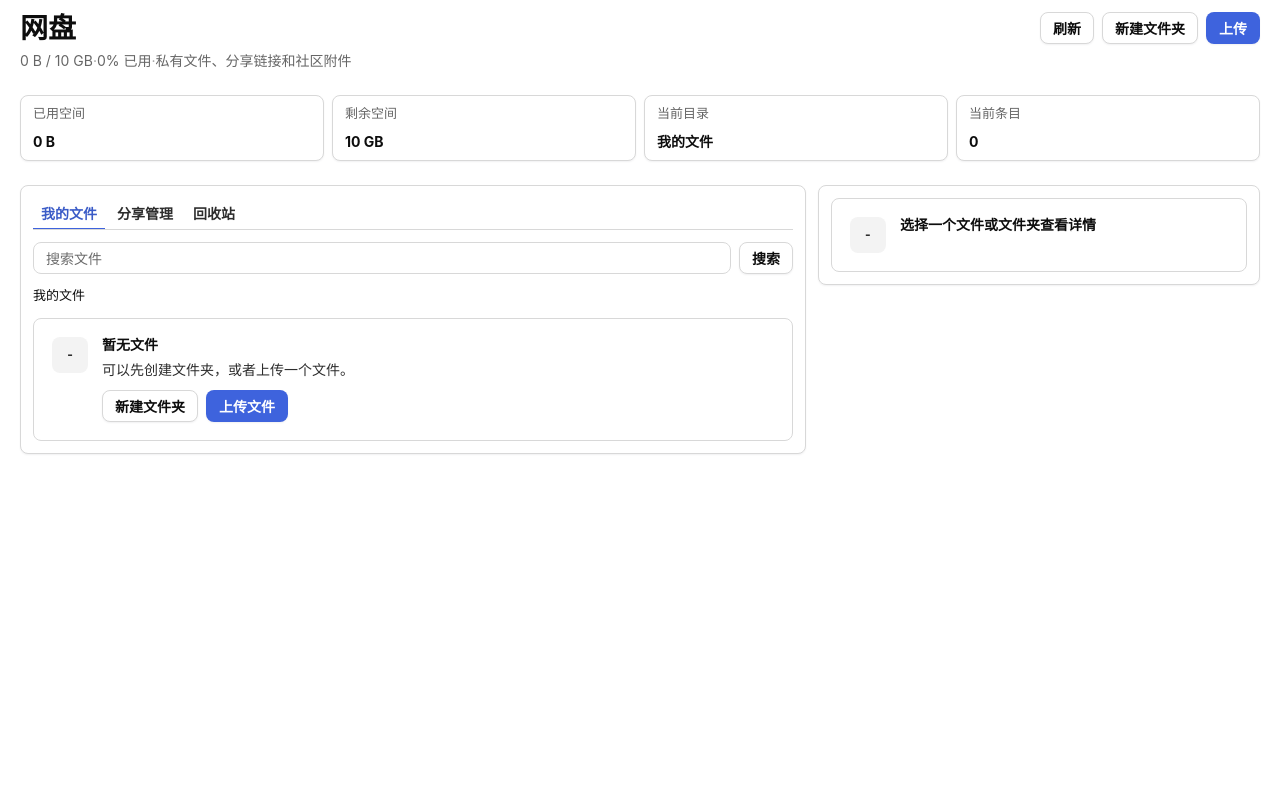
Test case: DriveView › dedupes page-shifted shares by shareId when appending the next page
This screenshot has width=1280, height=812.
Click the tab "分享管理" at (145, 214), box [109,198,181,230]
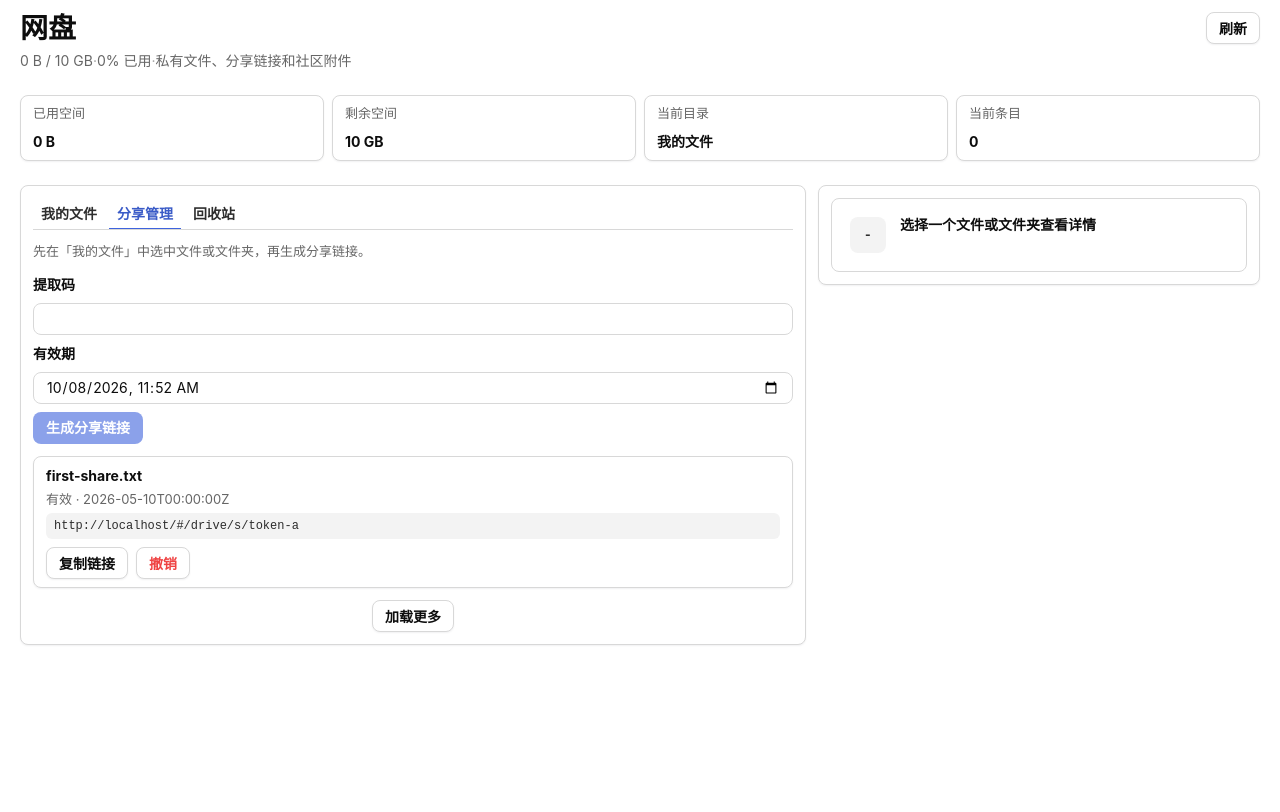
Click the button "加载更多" at (413, 616), box [372,600,454,632]
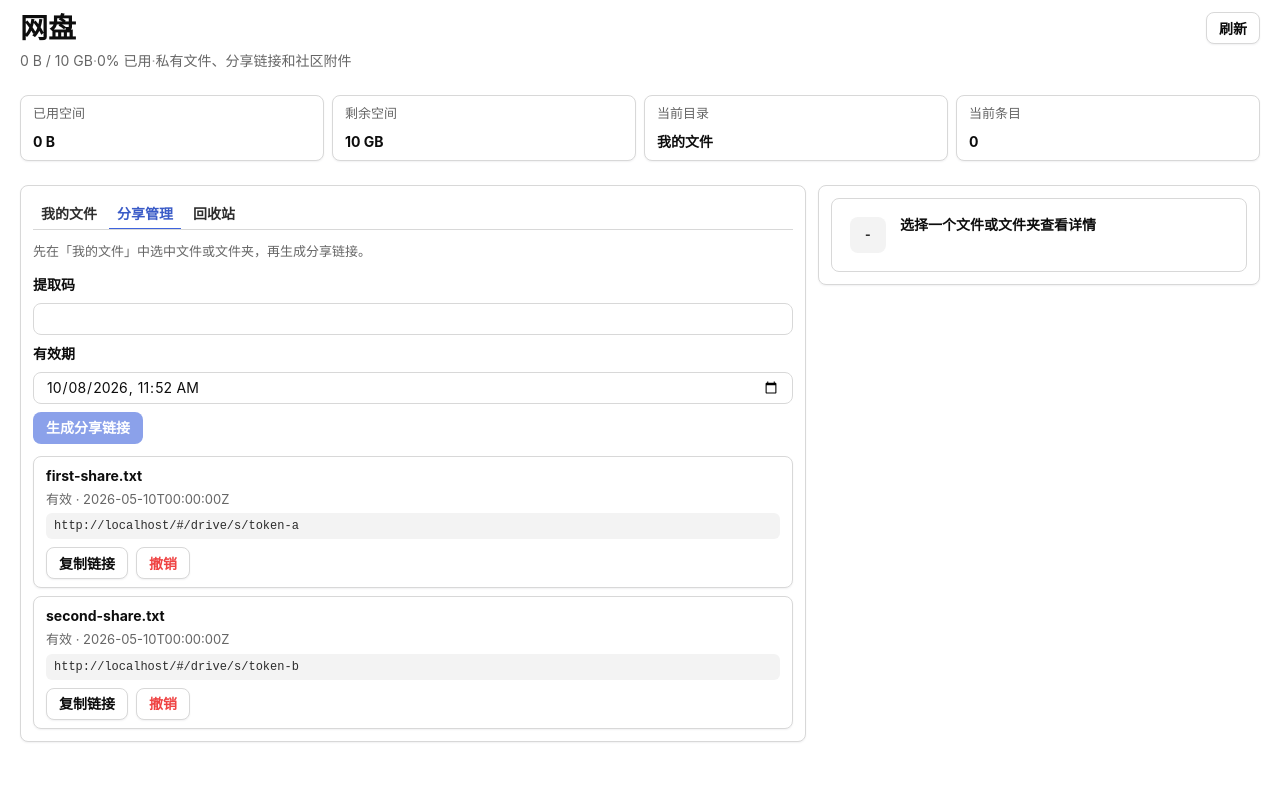
Expected: the text "first-share.txt" is shown, [46,467,142,484]
Expected: the number of elements with class "drive-share-item" is 2, [33,456,793,588]; [33,596,793,729]
Expected: the text "second-share.txt" is shown, [46,607,165,624]
